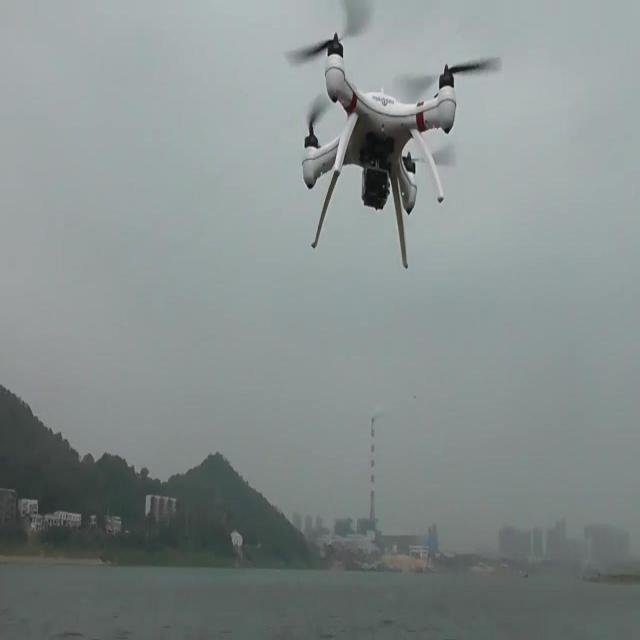UAV: (282, 0, 504, 268)
